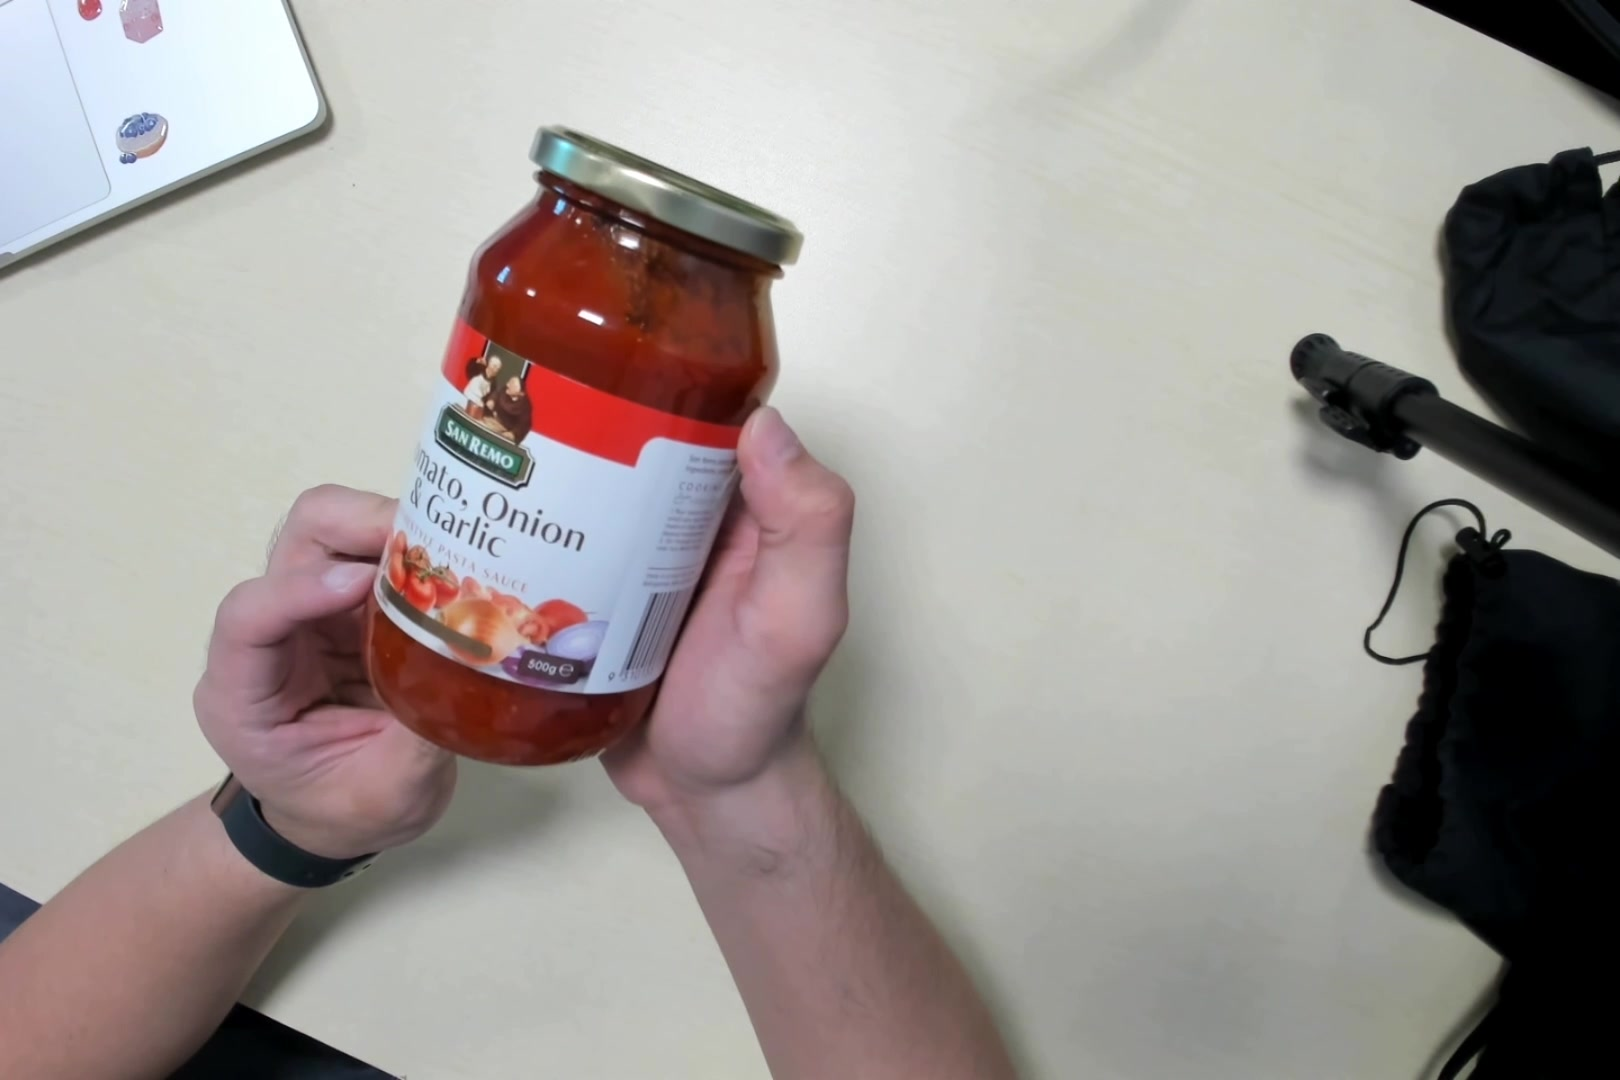PastaSauce_500-599g_NonHalal_NonHealthy: (366, 116, 798, 763)
